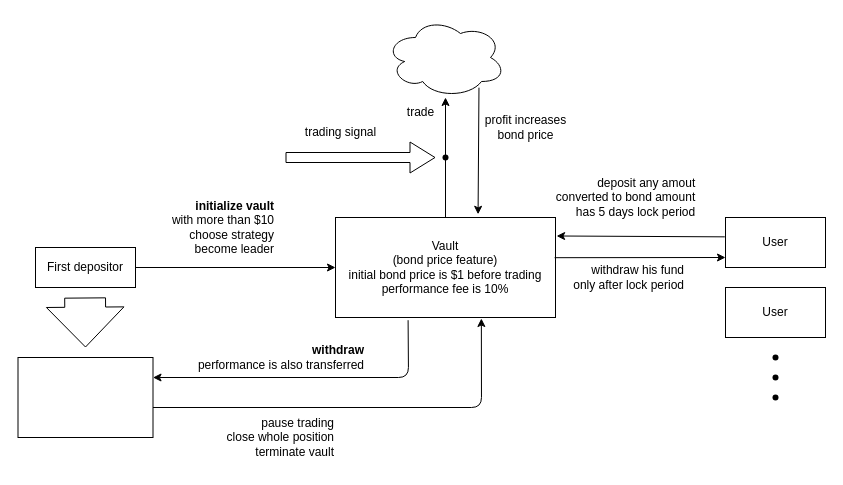
Some shapes in this 843 by 485 pixel diagram are drawn without their labels. The centre of each missing label's shape, as x and y in pixels:
Leader (must hold more than 1% of the vault's TVL): point (85, 397)
Raydium: point (445, 57)
